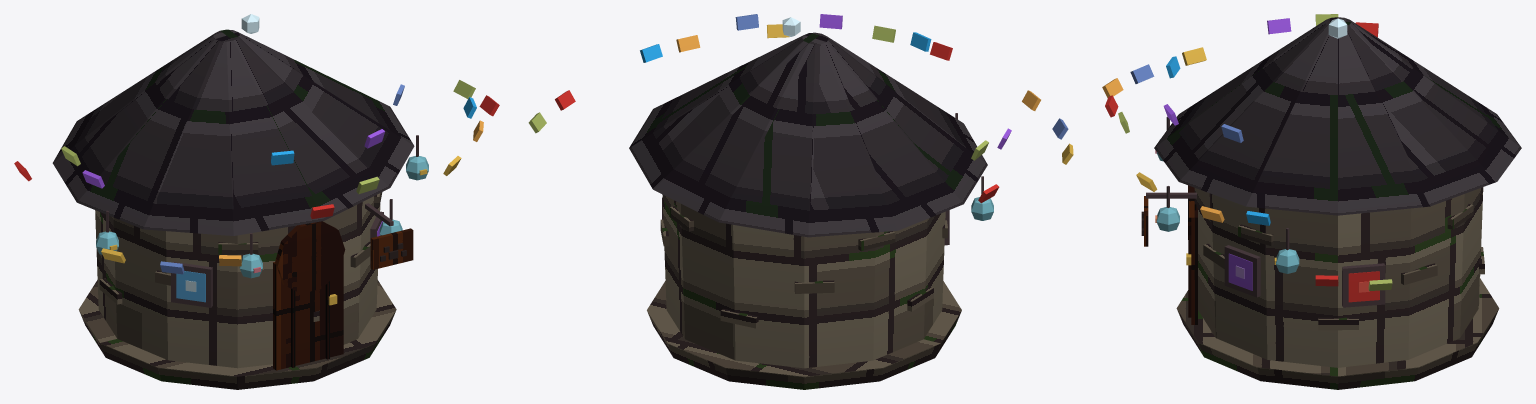
The model's file is stray_den.glb.
3 views of the same model, side by side, from view 1: azimuth 30°, elevation 25°; view 2: azimuth 150°, elevation 25°; view 3: azimuth 270°, elevation 25° (orthographic). The views are drawn at different scales.
Visible parts, largest first — view 1: stray_den; view 2: stray_den; view 3: stray_den.
Part boxes in pixels (x1=…): stray_den: x1=14, y1=14, x2=499, y2=389; stray_den: x1=528, y1=14, x2=1073, y2=389; stray_den: x1=1102, y1=14, x2=1521, y2=389.
Size of the model in its own units: 4.78 by 3.06 by 3.72.
Materials: 4 (2 with a texture image).
